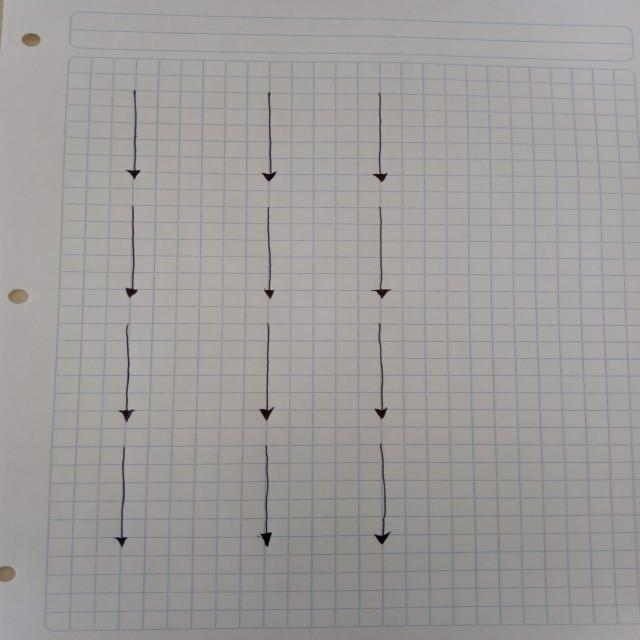arrow_line_down: (251, 434, 289, 555), (109, 322, 144, 423), (109, 448, 141, 553), (366, 443, 396, 551), (368, 207, 401, 300), (120, 205, 150, 301), (371, 322, 400, 418), (256, 89, 284, 186), (251, 208, 280, 298), (122, 88, 146, 176), (371, 93, 395, 181), (258, 325, 276, 426)
